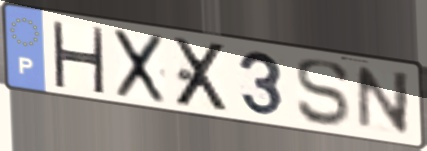3: (233, 49, 289, 121)
H: (49, 18, 107, 96)
N: (354, 64, 412, 138)
S: (293, 58, 352, 128)
X: (172, 36, 232, 114), (112, 27, 167, 107)
